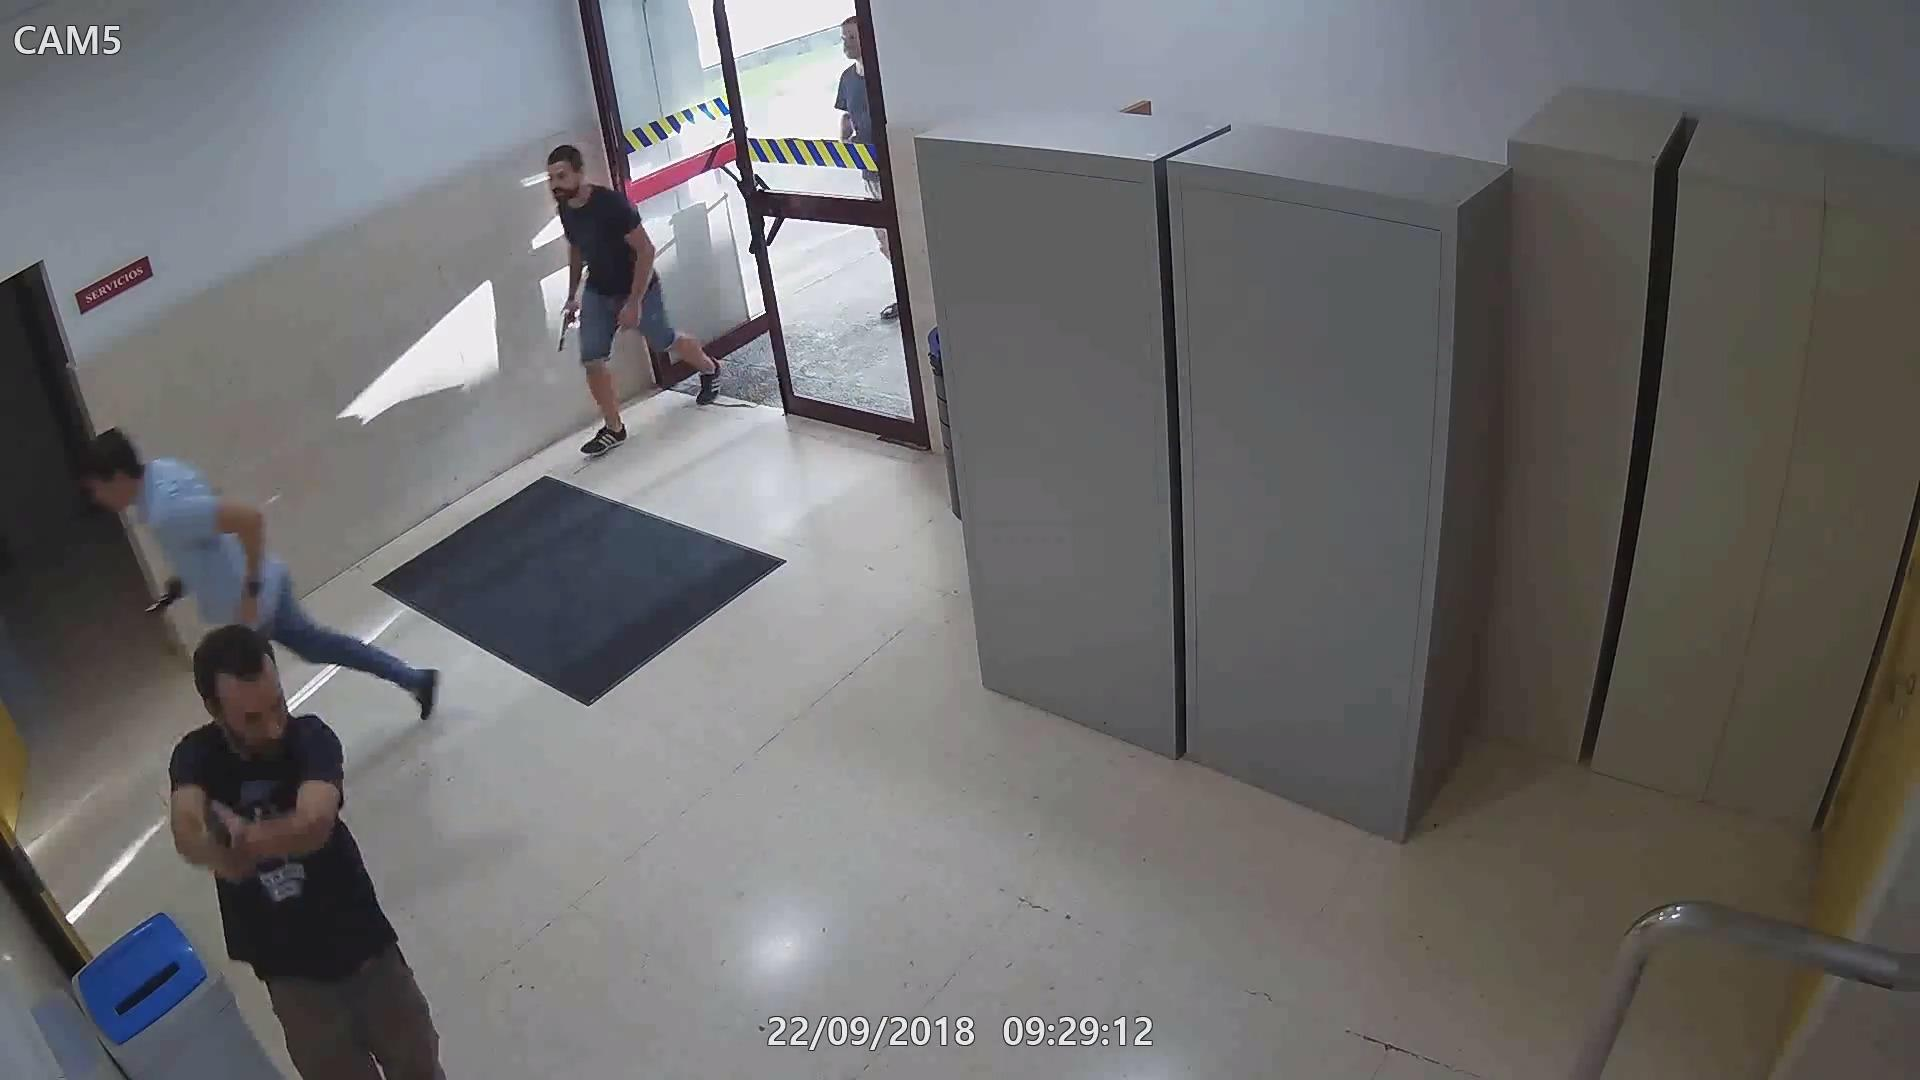Handgun: (194, 793, 244, 877), (554, 295, 580, 355)
